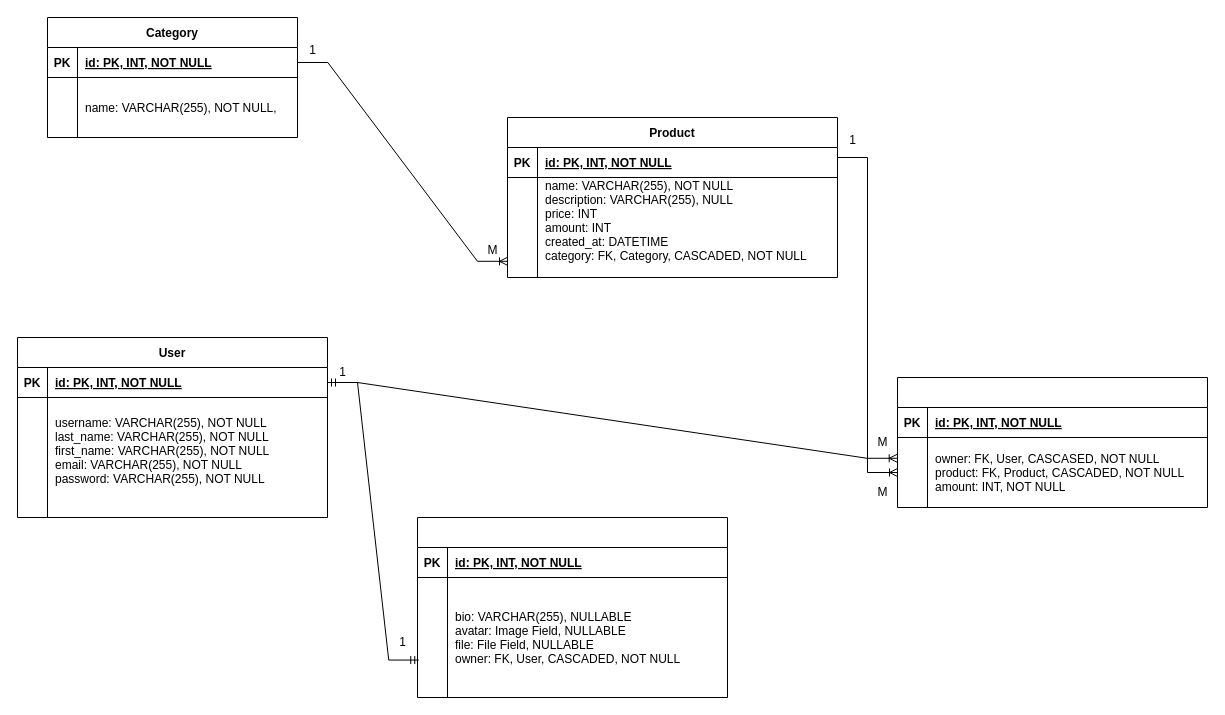
Image size: 1225x715. Some labels were removed from this diagram. Each missing label, with the box of its shape:
BasketItem: (896, 376, 1208, 508)
Profile: (416, 516, 728, 698)
